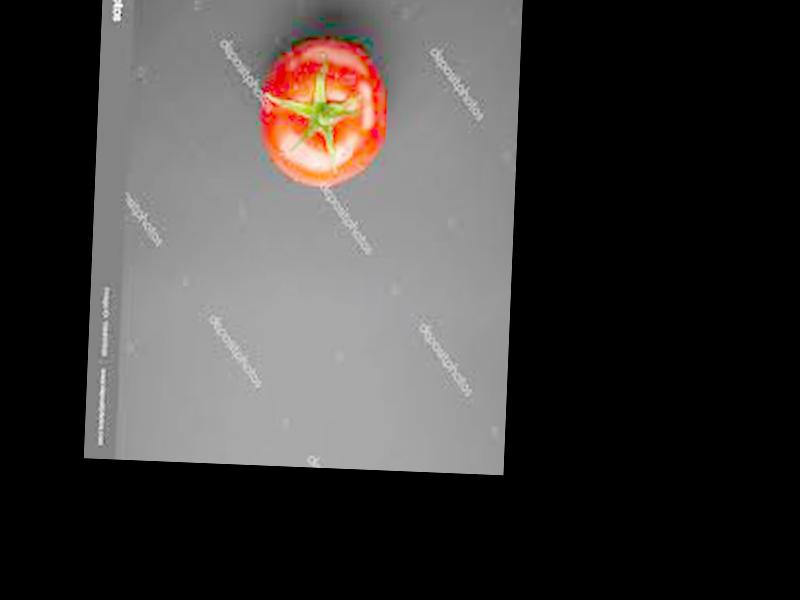Tomato: (256, 38, 391, 191)
